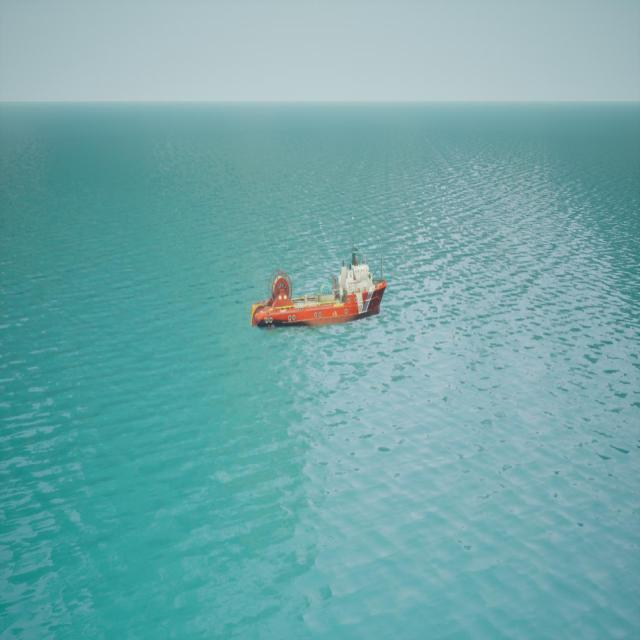tug boat: (252, 249, 387, 333)
